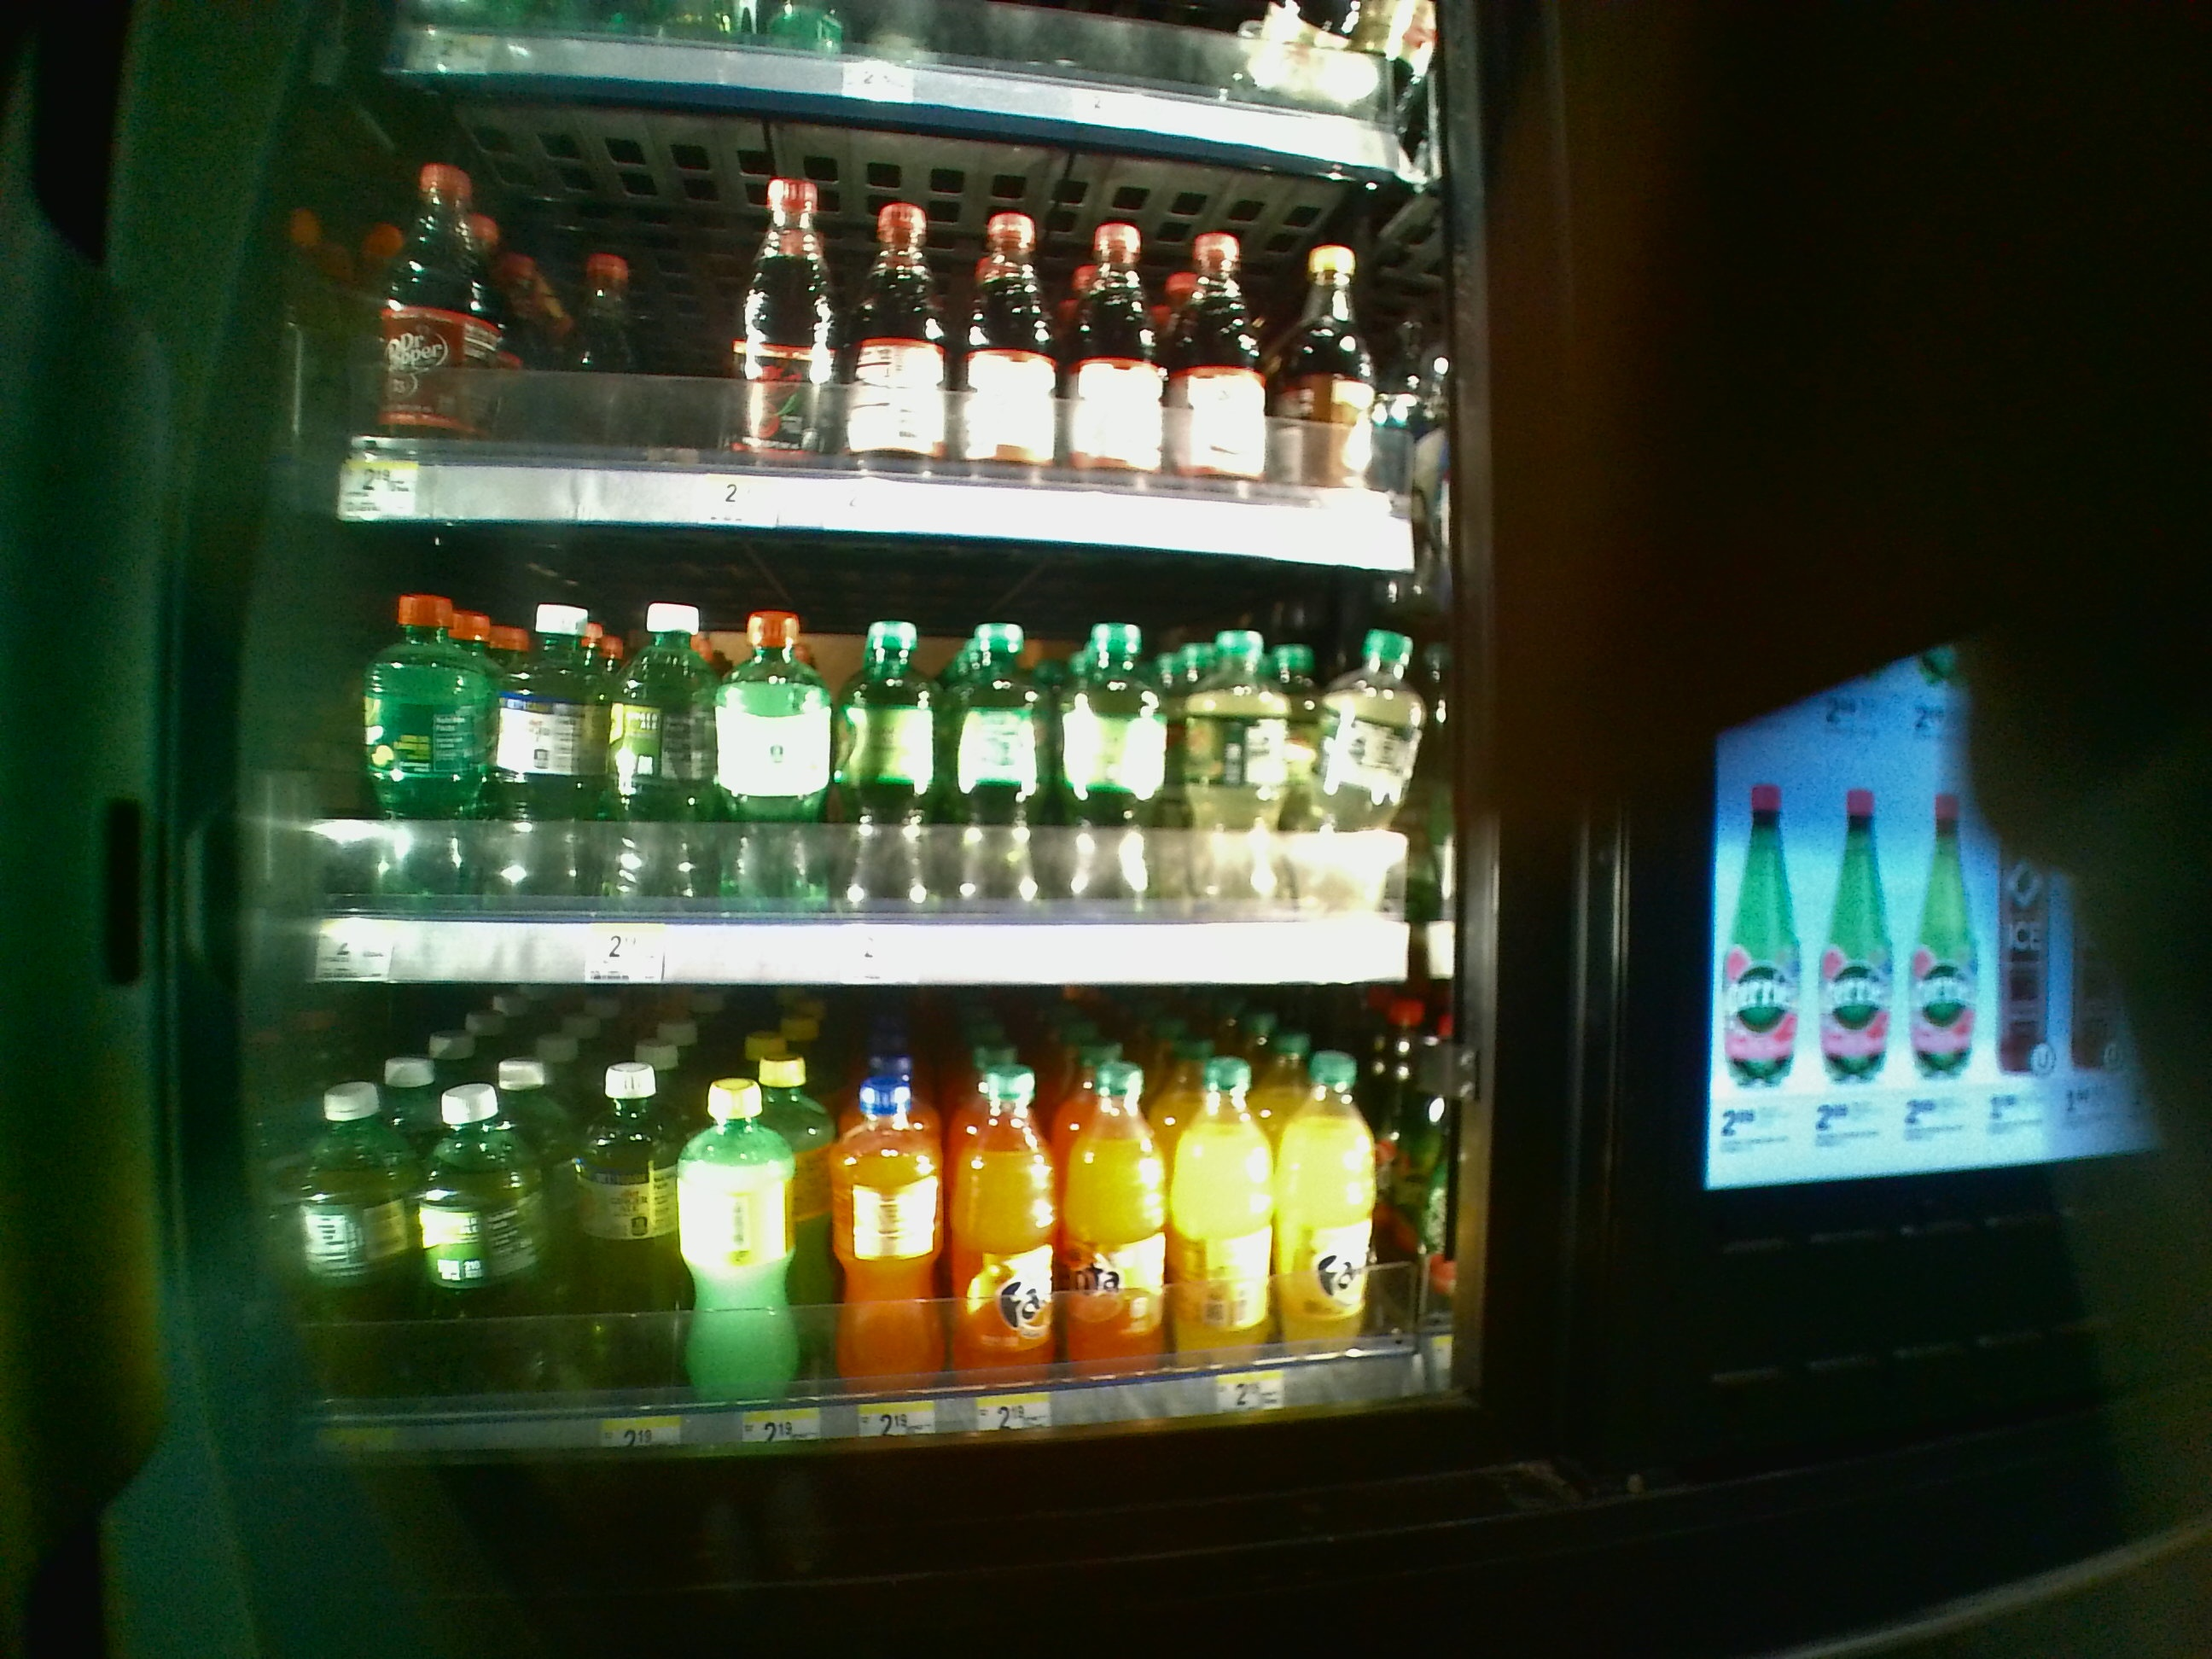shelf: (301, 528, 1444, 988), (307, 997, 1453, 1434)
